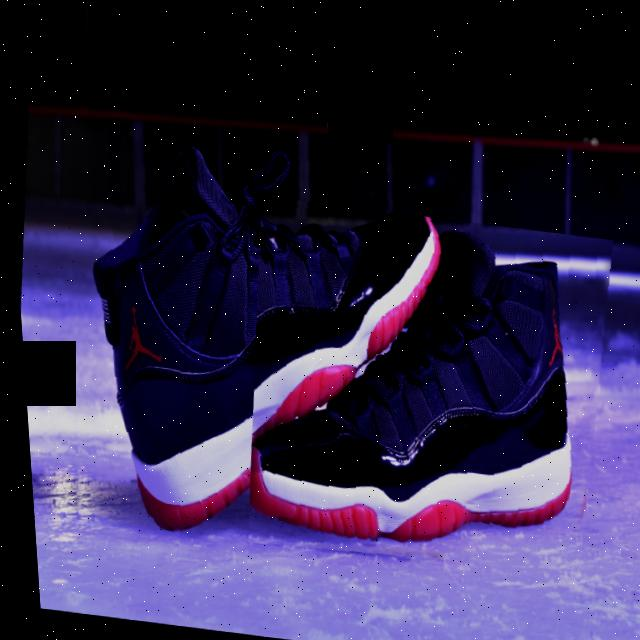shoe: (33, 113, 478, 576), (221, 194, 629, 584)
